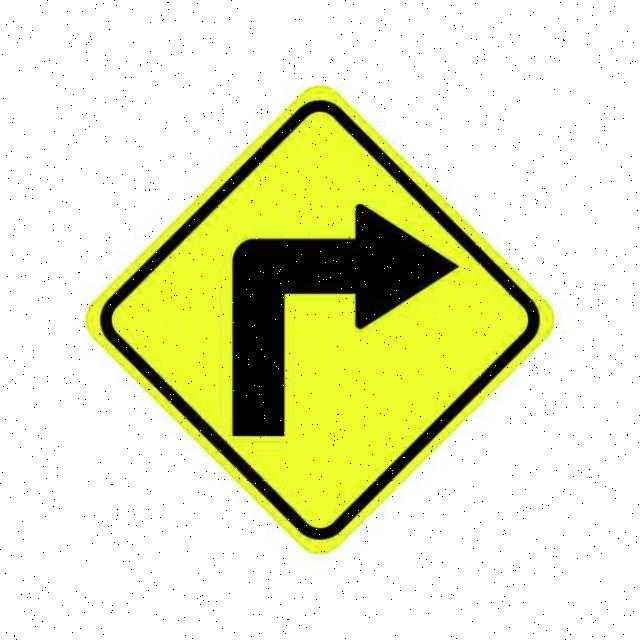Righthand_curve: (87, 89, 555, 549)
